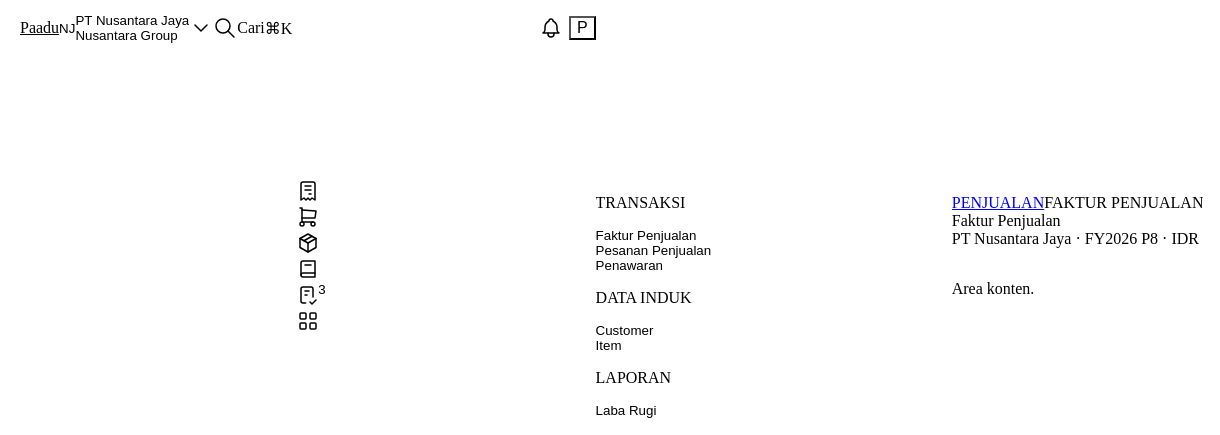
menu profil memuat nama, peran, tema, kepadatan, dan keluar
Click the button named "Menu pengguna" at (582, 28), box [569,16,596,40]
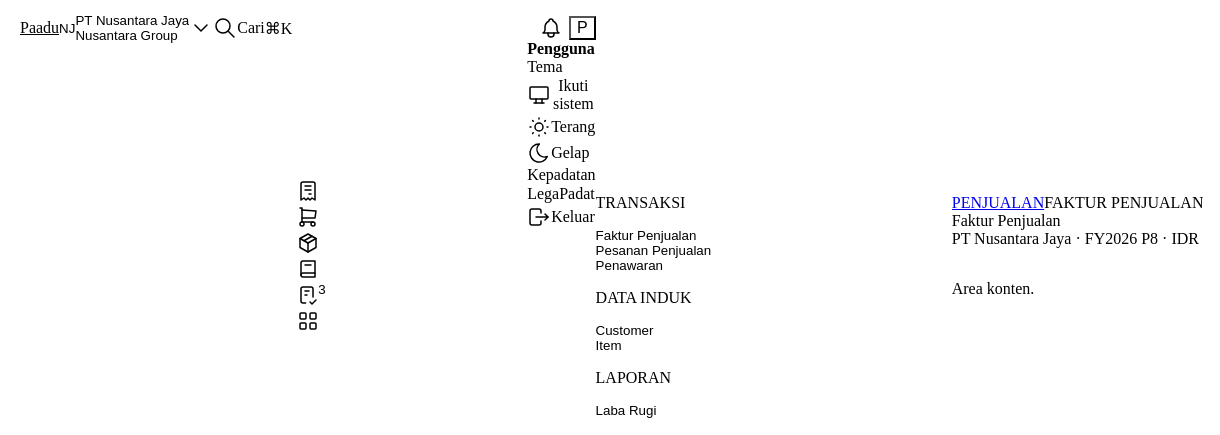
Expected: the element named "Tema" is shown, [527,76,596,166]
Expected: the element named "Kepadatan" is shown, [527,184,596,204]
Expected: the menu item "Keluar" is shown, [527,204,596,230]
